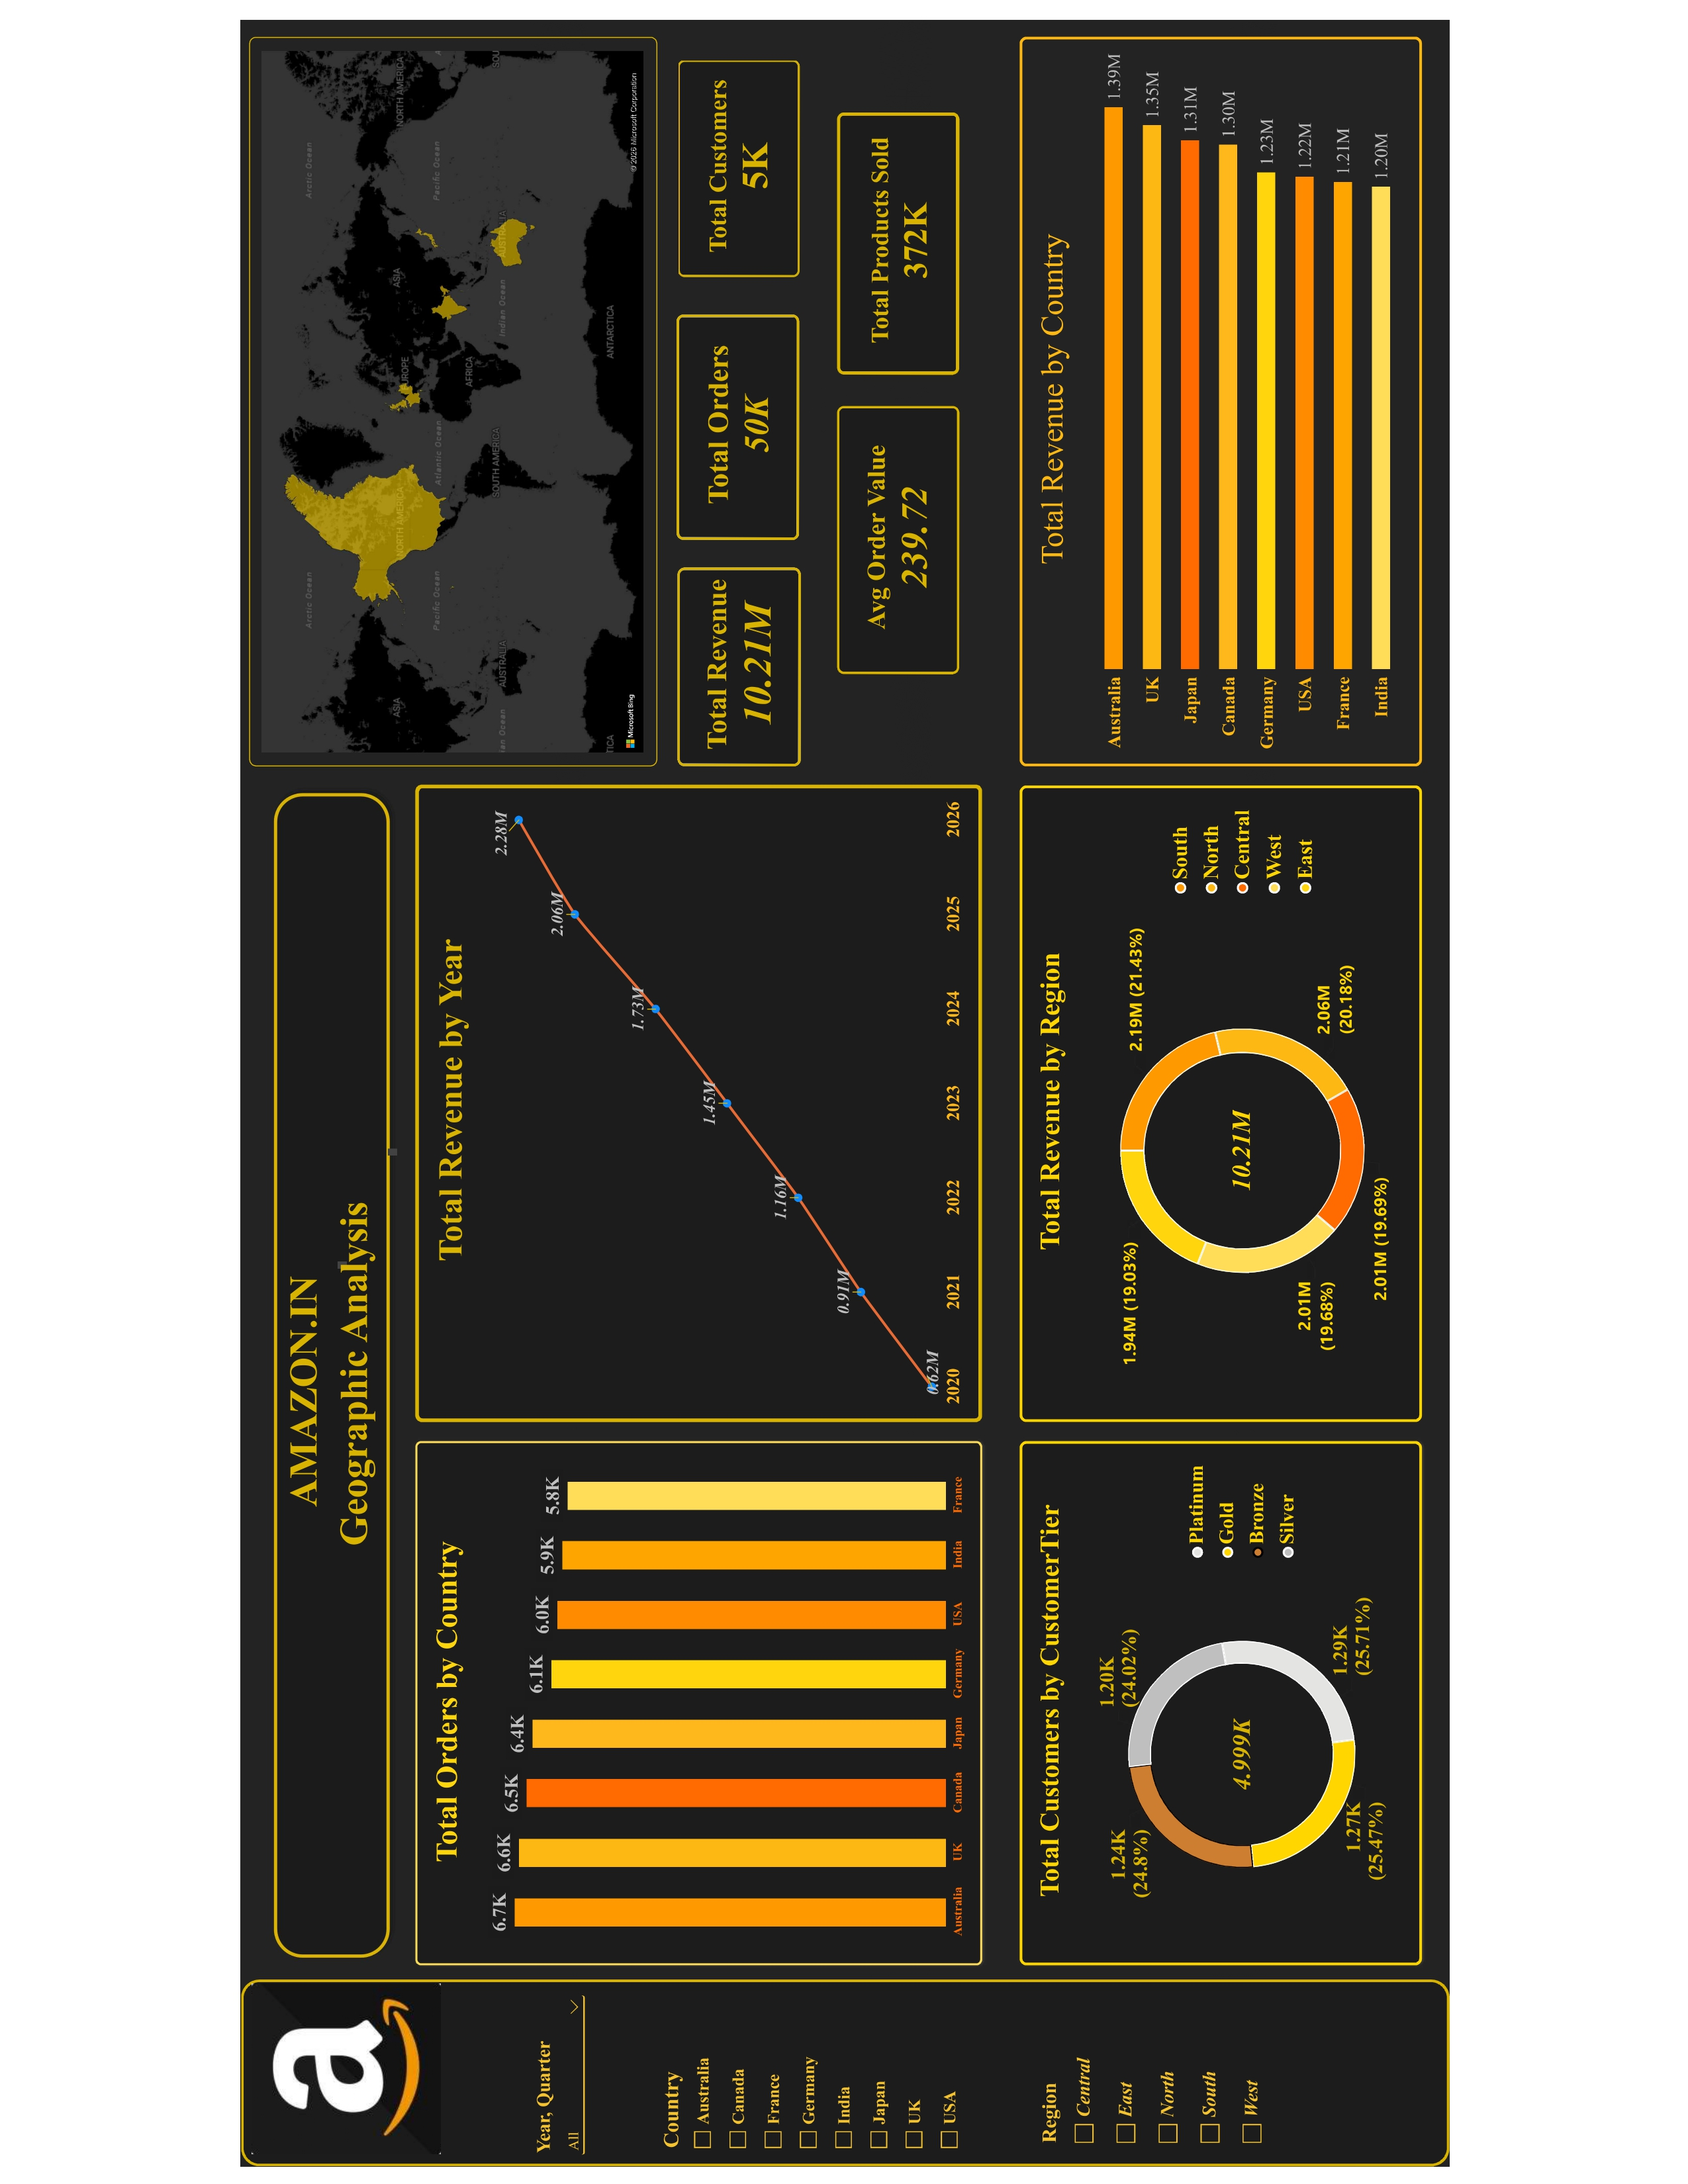

What the dashboard file says about the page in this screenshot:
{"tool":"powerbi","page":{"name":"Geographic Analysis","canvas":[2560,1440],"ordinal":0},"visuals":[{"type":"filledMap","fields":{"Category":["Orders.Country"]},"box":[1670,10,869.8,486],"z":0},{"type":"shape","box":[0,0,222.5,1440],"z":1000},{"type":"image","box":[15,12.5,202.5,225],"z":2000},{"type":"slicer","fields":{"Values":["Orders.Country"]},"box":[14,497.7,193,383.7],"z":3000},{"type":"slicer","fields":{"Values":["Orders.Region"]},"box":[20,950,190,305],"z":4000},{"type":"cardVisual","fields":{"Data":["Orders.Total Orders"]},"box":[1939.5,518.6,269.8,146.5],"z":5000},{"type":"cardVisual","fields":{"Data":["Customers.Total Customers"]},"box":[2253.3,520,260,146.7],"z":6000},{"type":"cardVisual","fields":{"Data":["Orders.Avg Order Value"]},"box":[1780,710,320,146.7],"z":7000},{"type":"barChart","fields":{"Y":["Orders.Total Revenue"],"Category":["Orders.Country"]},"box":[1669.8,927.9,869.8,479.1],"z":8000},{"type":"donutChart","fields":{"Y":["Orders.Total Revenue"],"Category":["Customers.Region"]},"box":[888.4,927.9,758.1,479.1],"z":9000},{"type":"lineChart","fields":{"Category":["Orders.OrderDate.Variation.Date Hierarchy.Year","Orders.OrderDate.Variation.Date Hierarchy.Quarter","Orders.OrderDate.Variation.Date Hierarchy.Month","Orders.OrderDate.Variation.Date Hierarchy.Day"],"Y":["Orders.Total Revenue"]},"box":[887.5,207.5,760,675],"z":10000},{"type":"slicer","fields":{"Values":["Orders.OrderDate.Variation.Date Hierarchy.Year","Orders.OrderDate.Variation.Date Hierarchy.Quarter"]},"box":[7.5,347.5,202.4,101.8],"z":11000},{"type":"donutChart","fields":{"Y":["Customers.Total Customers"],"Category":["Customers.CustomerTier"]},"box":[239.5,927.9,625.6,479.1],"z":12000},{"type":"cardVisual","fields":{"Data":["Products.Total Products Sold"]},"box":[2136.7,710,314,146.5],"z":13000},{"type":"clusteredColumnChart","fields":{"Category":["Orders.Country"],"Y":["Orders.Total Orders"]},"box":[240,207.5,625,675],"z":14000},{"type":"shape","box":[239.5,30.2,1407,155.8],"z":15000},{"type":"cardVisual","fields":{"Data":["Orders.Total Revenue"]},"box":[1670,520,237.5,147.5],"z":16000},{"type":"textbox","title":"AMAZON.IN","box":[769.8,46.5,309.3,79.1],"z":17000},{"type":"textbox","title":"Geographic Analysis","box":[676.7,107,537.2,79.1],"z":17001}]}

Visuals, with their boxes on the page's 2560x1440 design canvas (x1, y1, x2, y2). These are canvas units, not pixel positions in the 1688x2184 screenshot, which may show the page scaled, cropped or inside an application window:
filledMap - Orders.Country: 1670/10/2540/496
shape: 0/0/222/1440
image: 15/12/218/238
slicer - Orders.Country: 14/498/207/881
slicer - Orders.Region: 20/950/210/1255
cardVisual - Orders.Total Orders: 1940/519/2209/665
cardVisual - Customers.Total Customers: 2253/520/2513/667
cardVisual - Orders.Avg Order Value: 1780/710/2100/857
barChart - Orders.Total Revenue x Orders.Country: 1670/928/2540/1407
donutChart - Orders.Total Revenue x Customers.Region: 888/928/1646/1407
lineChart - Orders.OrderDate.Variation.Date Hierarchy.Year x Orders.OrderDate.Variation.Date Hierarchy.Quarter: 888/208/1648/882
slicer - Orders.OrderDate.Variation.Date Hierarchy.Year x Orders.OrderDate.Variation.Date Hierarchy.Quarter: 8/348/210/449
donutChart - Customers.Total Customers x Customers.CustomerTier: 240/928/865/1407
cardVisual - Products.Total Products Sold: 2137/710/2451/856
clusteredColumnChart - Orders.Country x Orders.Total Orders: 240/208/865/882
shape: 240/30/1646/186
cardVisual - Orders.Total Revenue: 1670/520/1908/668
"AMAZON.IN" textbox: 770/46/1079/126
"Geographic Analysis" textbox: 677/107/1214/186
